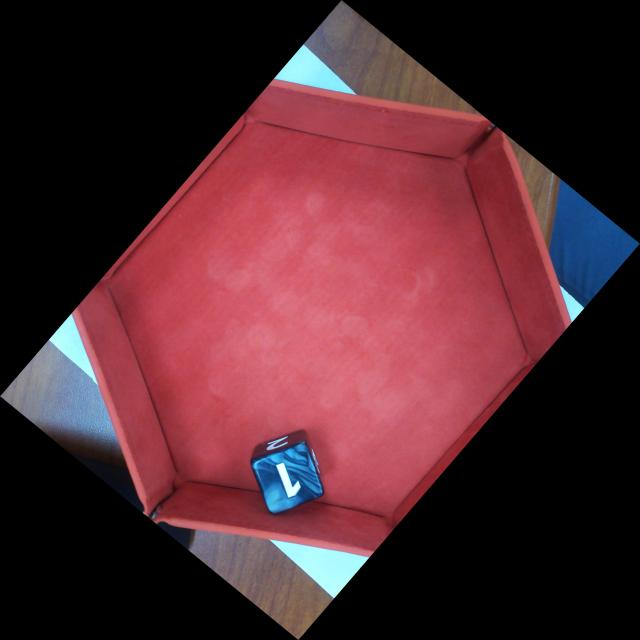dice: (254, 444, 325, 512)
